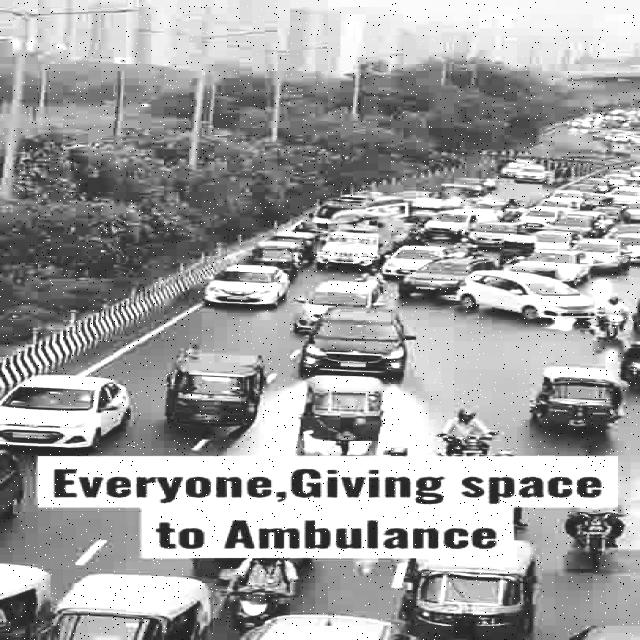Ambulance: (312, 194, 412, 214)
